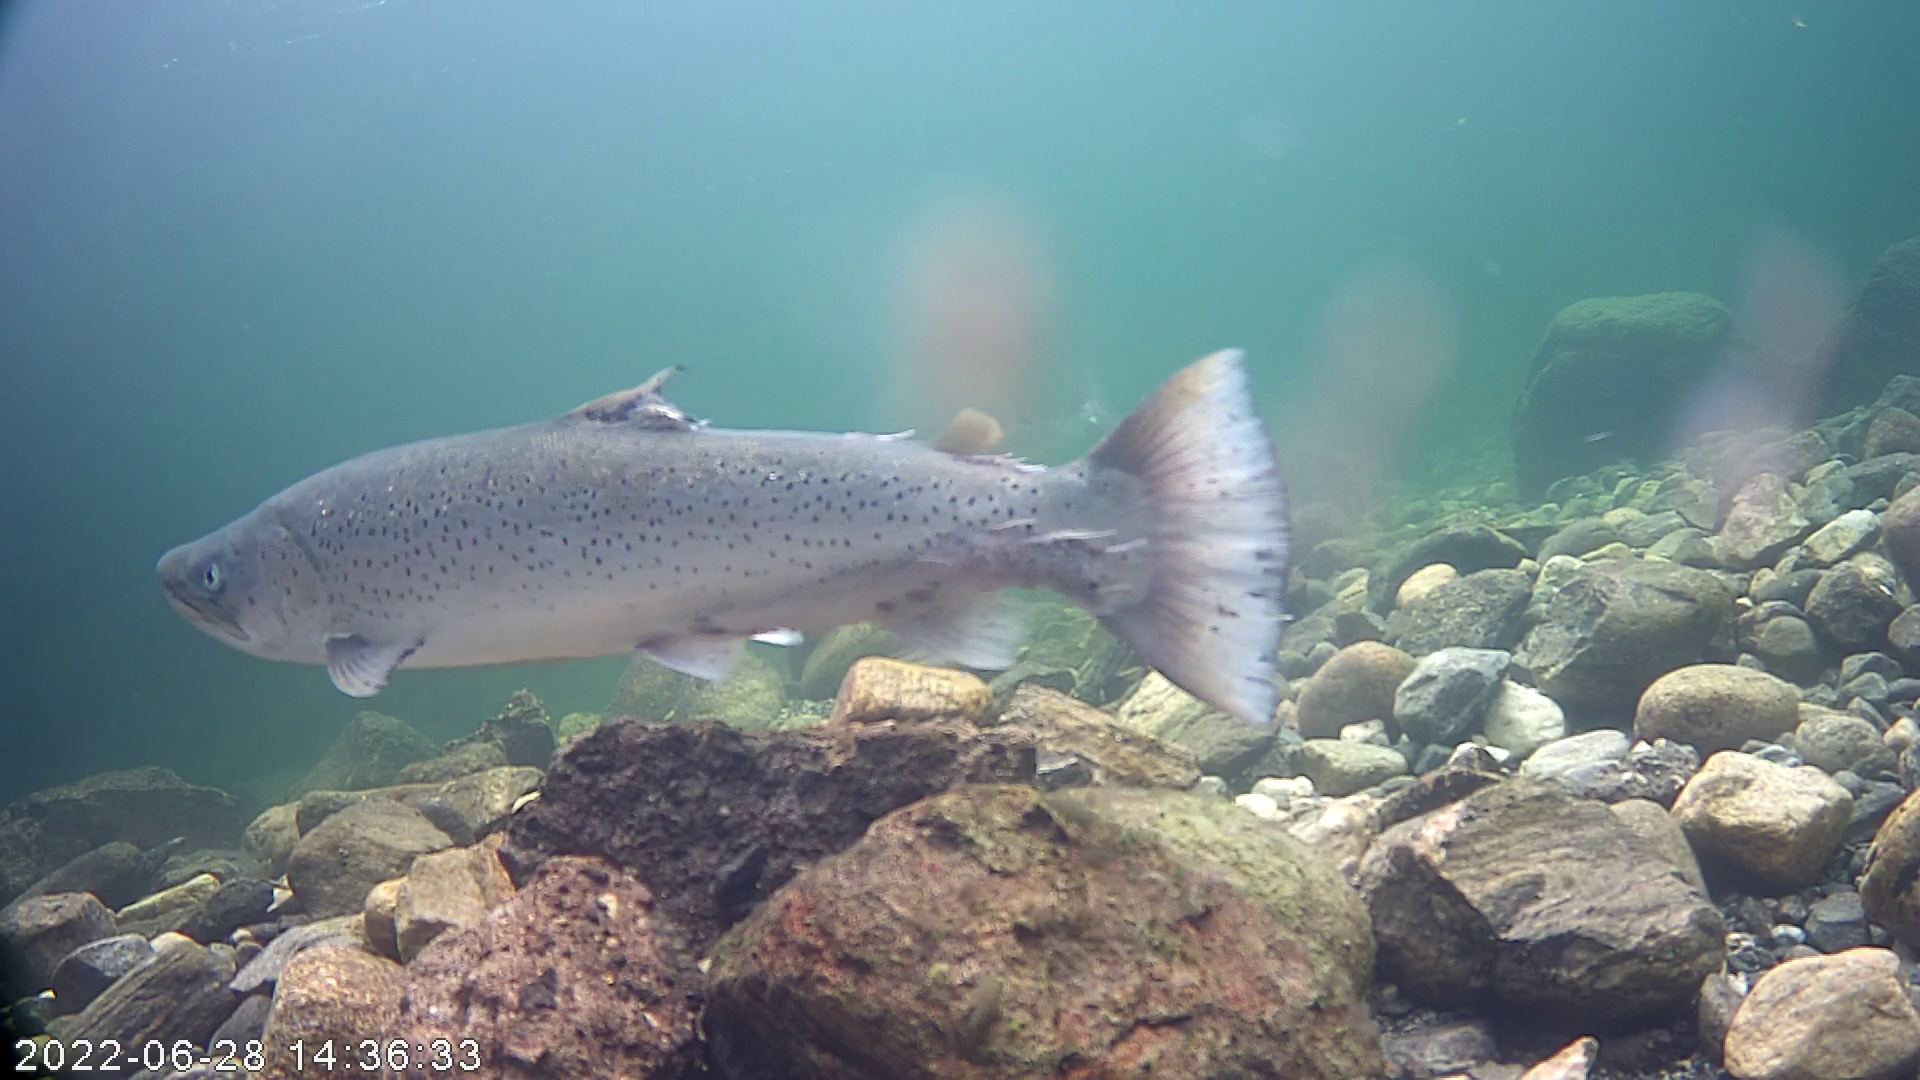salmon: (212, 291, 1325, 721)
